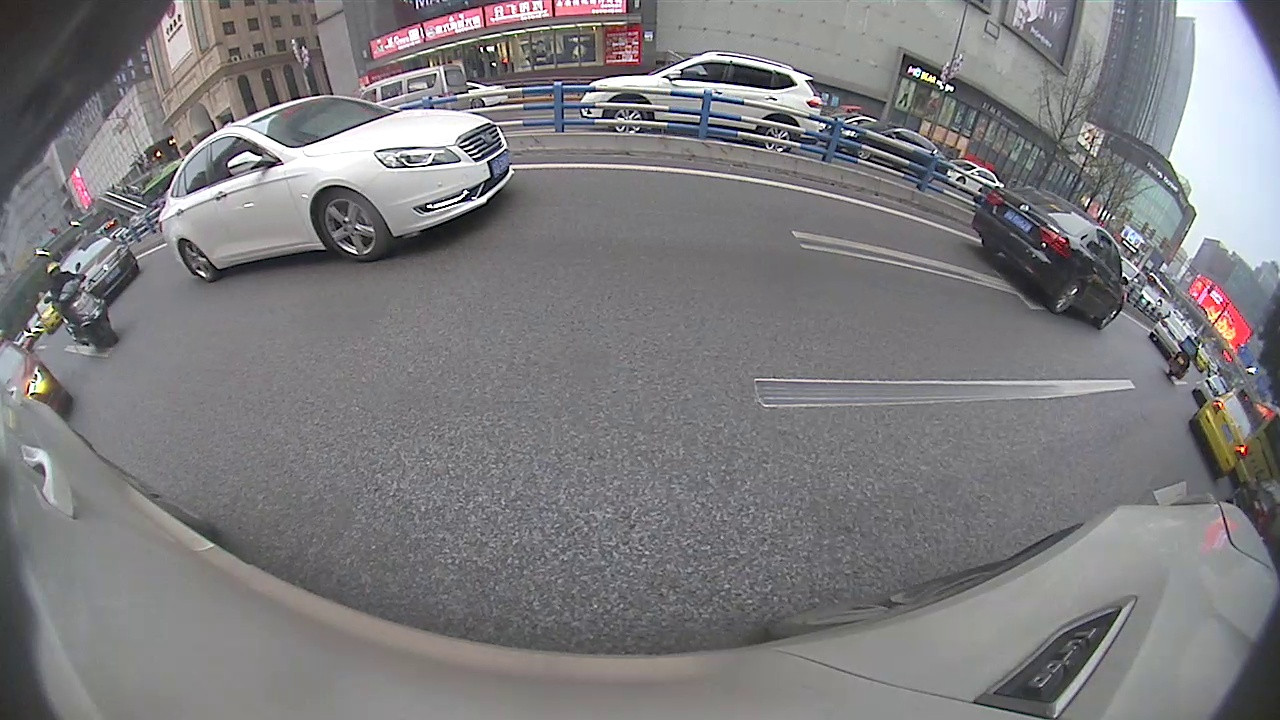car: (156, 94, 516, 284), (581, 49, 825, 154), (971, 184, 1129, 330)
front: (316, 190, 386, 261), (613, 104, 647, 138)
rear: (179, 241, 216, 282), (763, 118, 796, 156), (1052, 280, 1084, 313)
